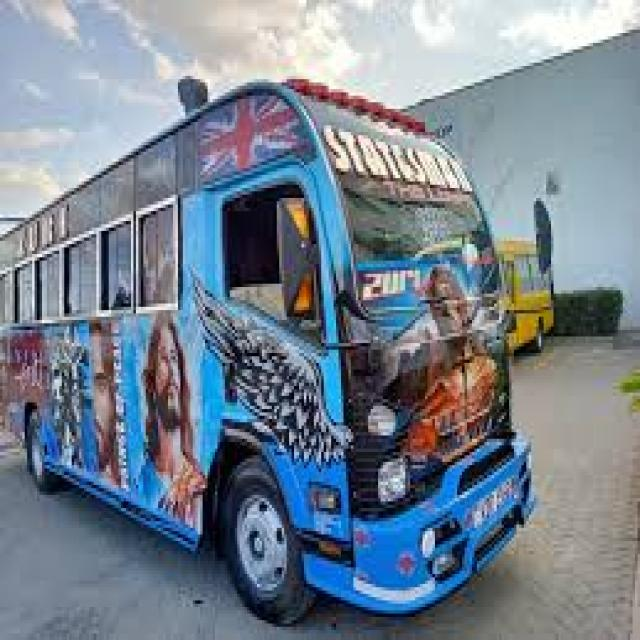bus: (0, 29, 576, 640)
